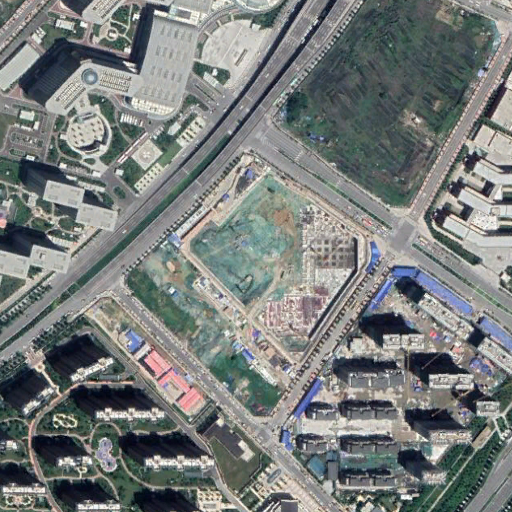cw: (138, 168, 309, 414)
